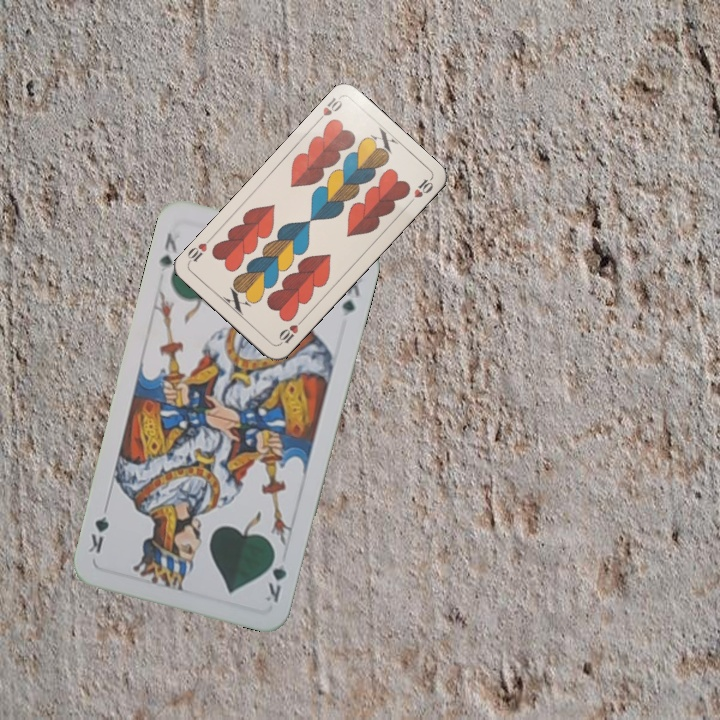GK: (261, 547, 290, 605), (155, 228, 180, 276)
H10: (312, 93, 345, 126), (275, 315, 306, 348)
